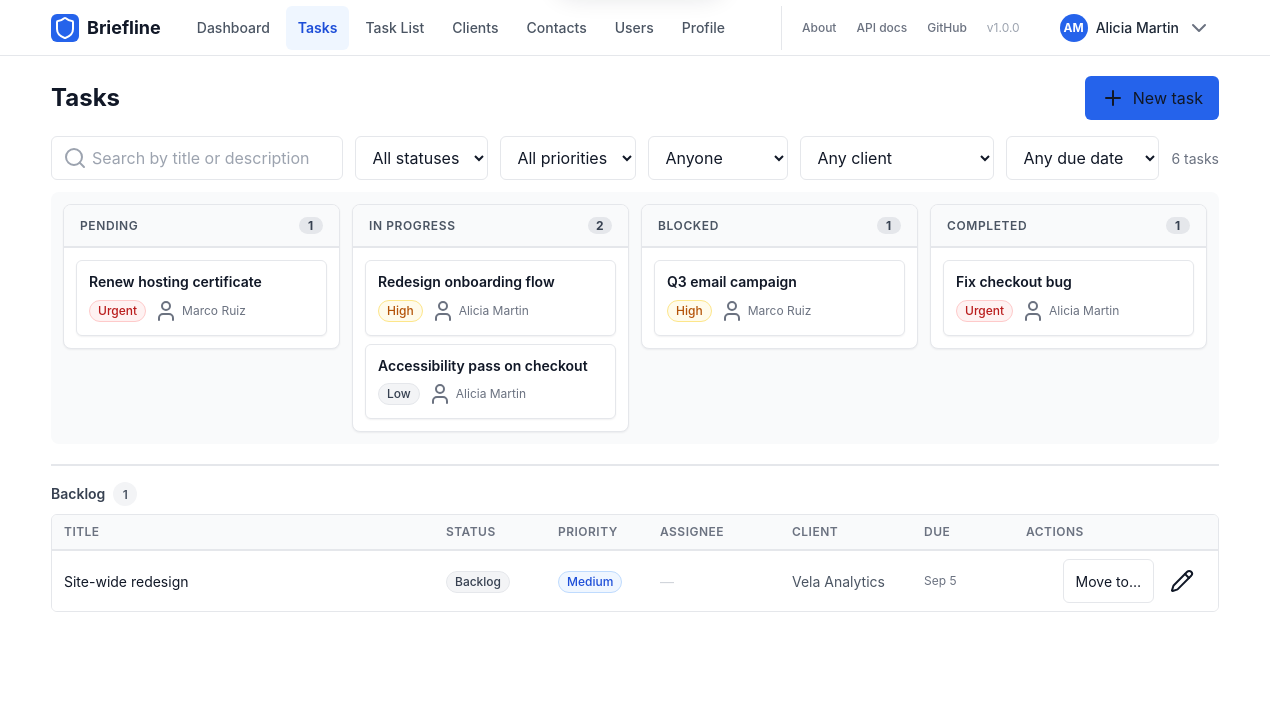
Test: Task detail actions (modal) › moves the task from the modal menu
Check: the heading "Tasks" is shown, box [51, 83, 120, 113]
Click the button "Redesign onboarding flow" at (490, 298), box [365, 260, 616, 336]
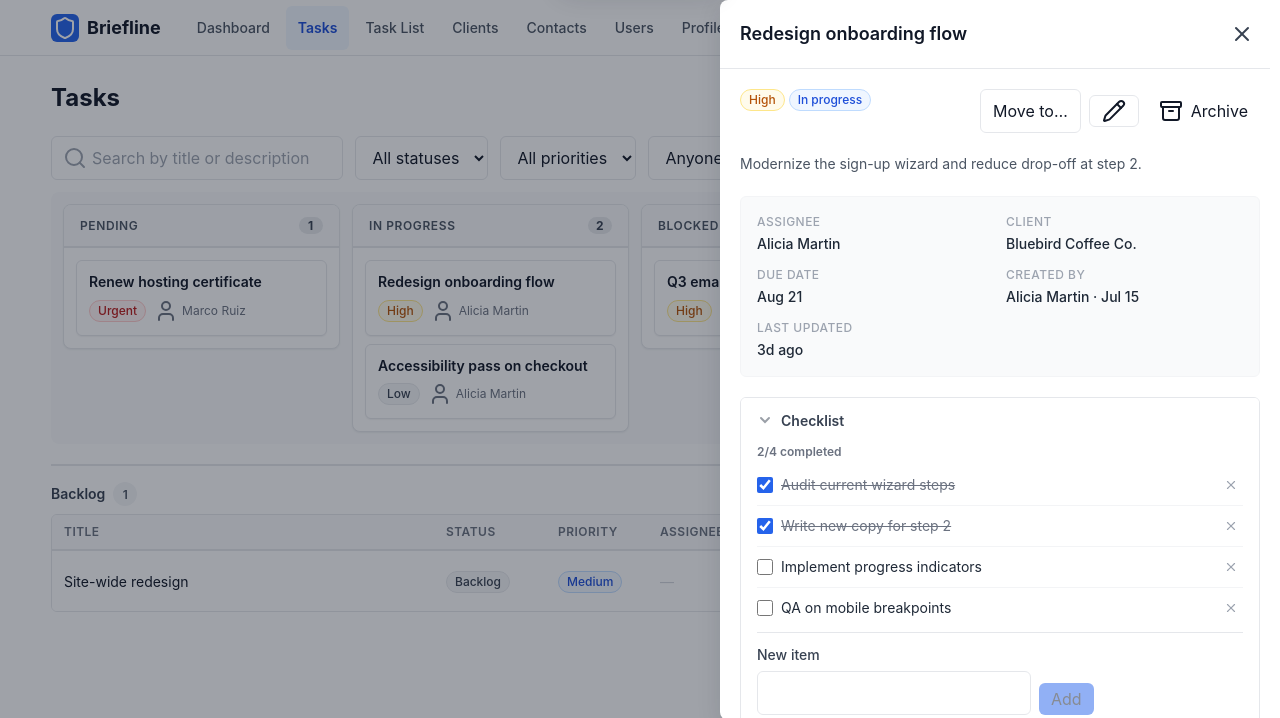
Click the button "Move to…" at (1030, 111), box [980, 89, 1081, 133]
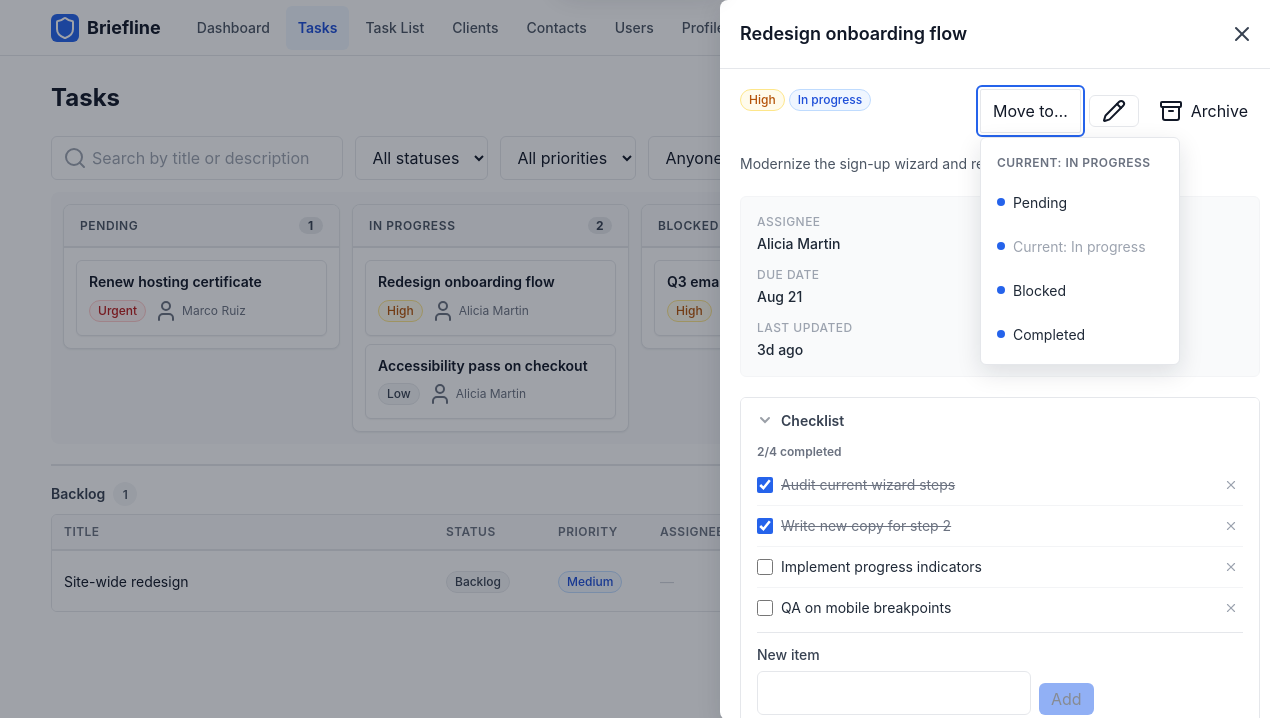
Click the menu item "Completed" at (1080, 334), box [989, 312, 1171, 356]
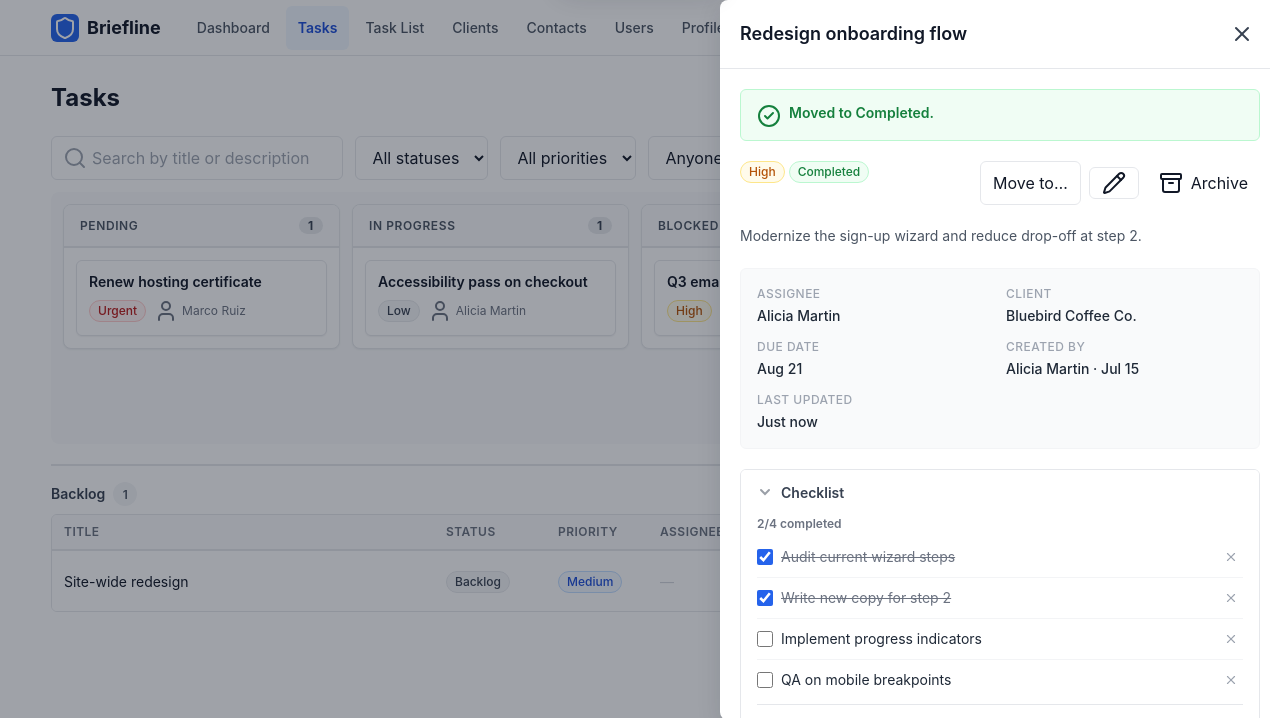
Check: the text "Moved to Completed." is shown, box [789, 102, 934, 123]
